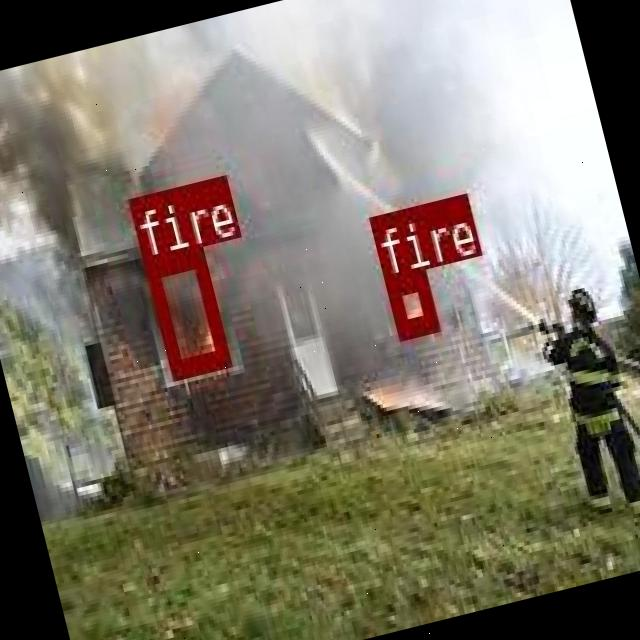fire: (140, 246, 226, 376), (382, 267, 436, 338)
